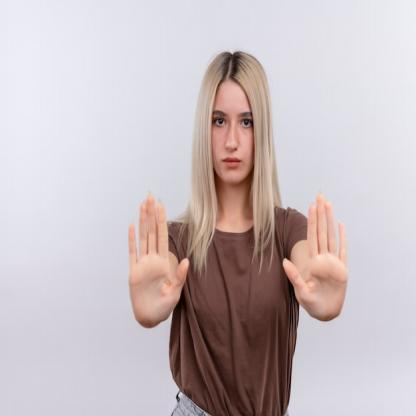stop: (280, 191, 350, 324), (125, 186, 190, 328)
